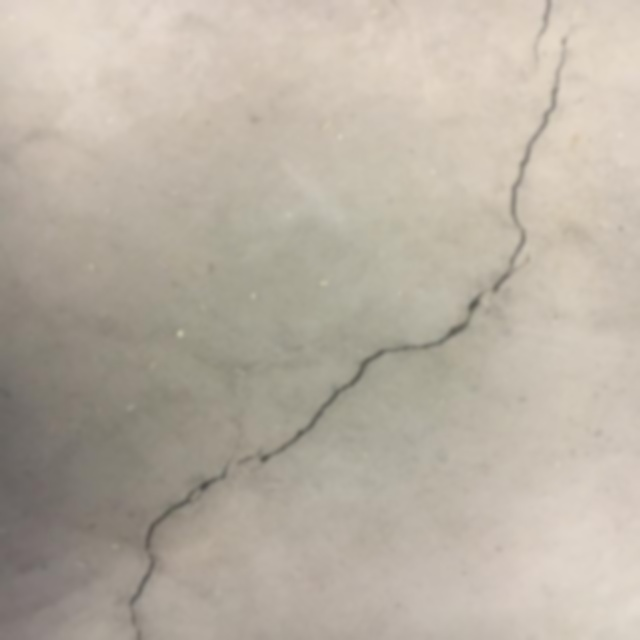SurfaceCrack: (83, 1, 580, 640)
